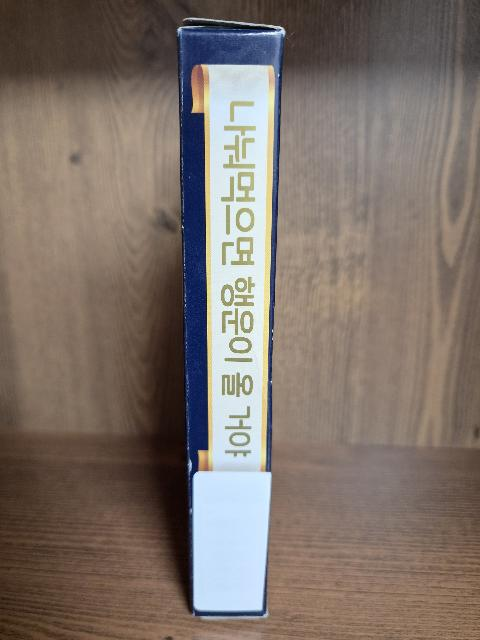pepero: (177, 17, 286, 620)
